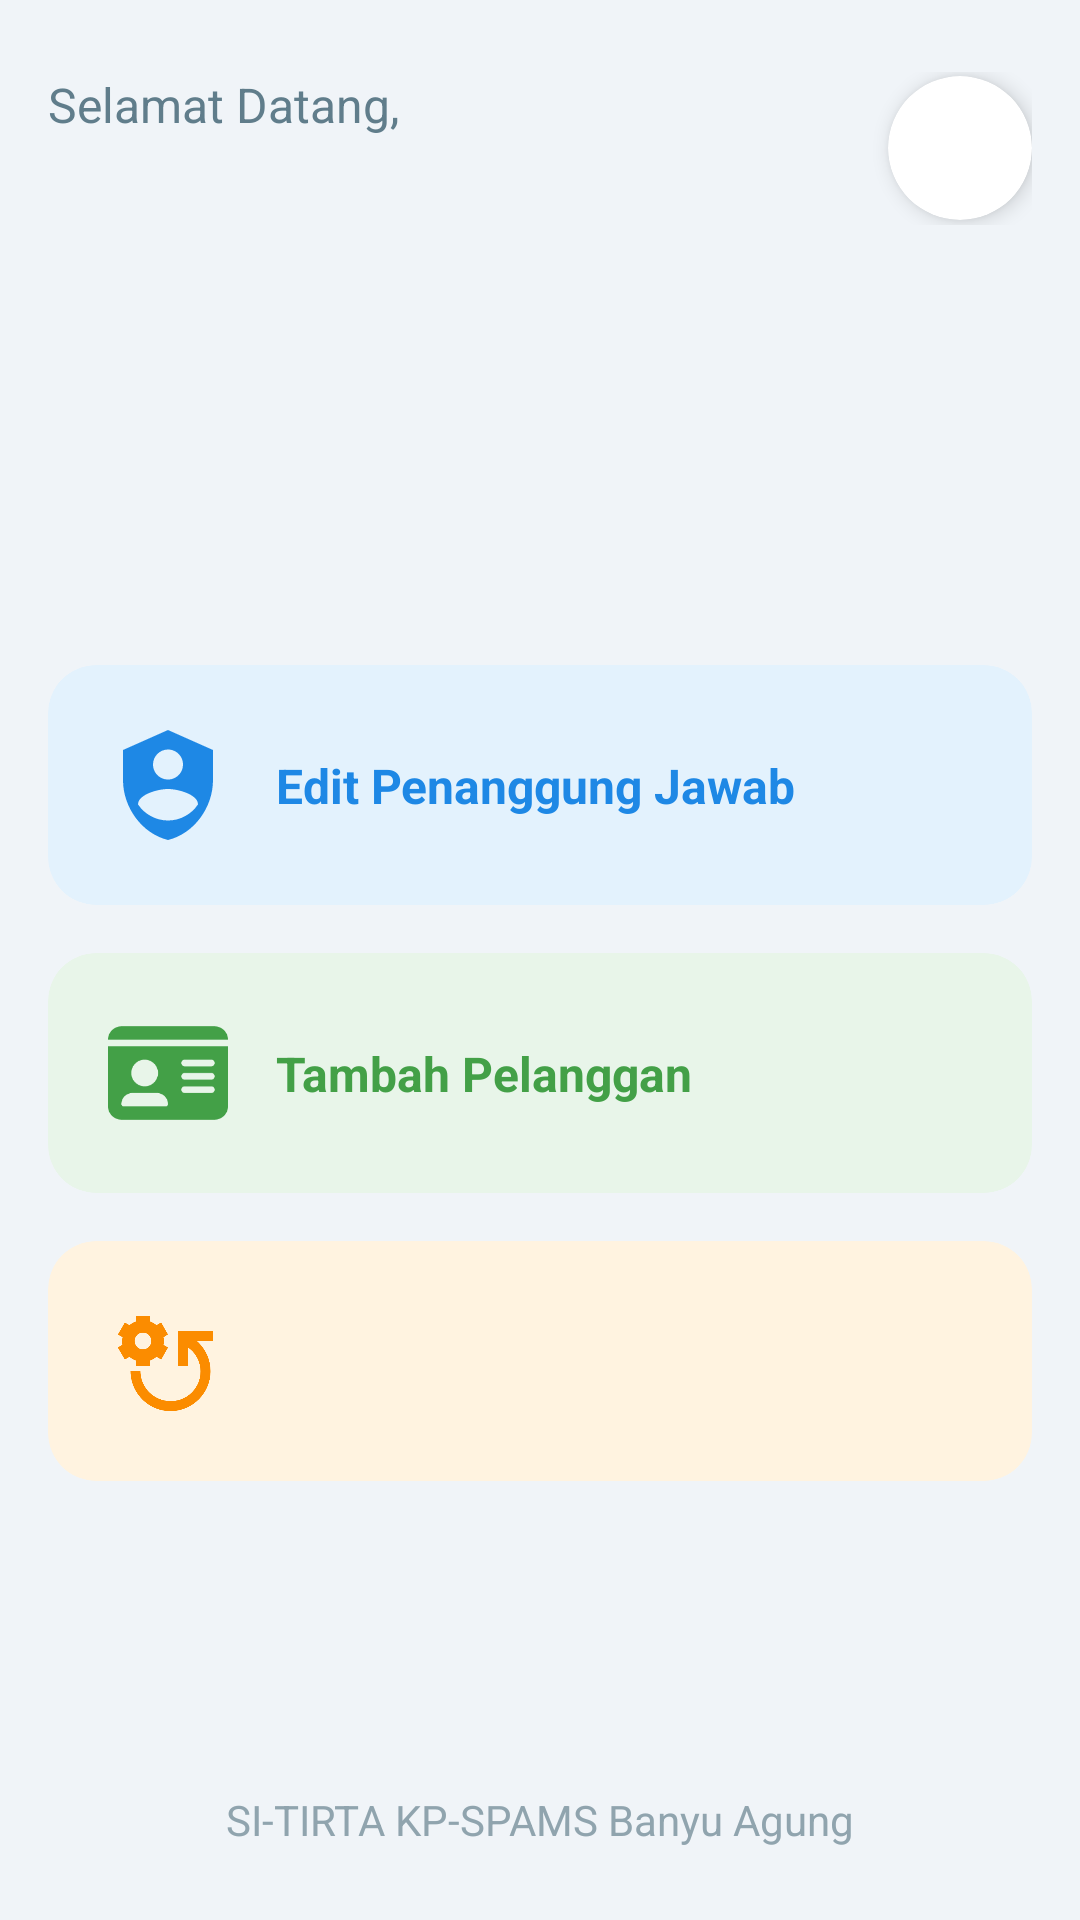

Named icons in this screenshot (1080*1920) and their bounding boxes, [x1=x1, y1=y1, x2=x2, y2=y2]:
sync: [x1=118, y1=1316, x2=213, y2=1411]
